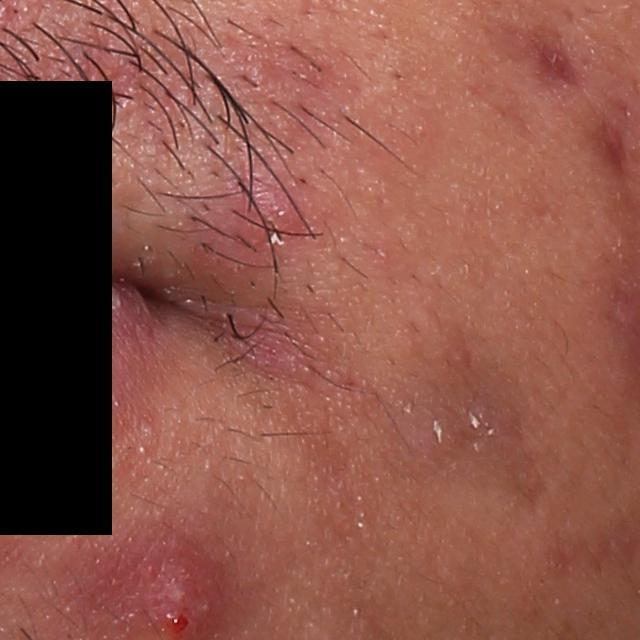atrophic_scar: (412, 376, 537, 492), (500, 4, 584, 86)
